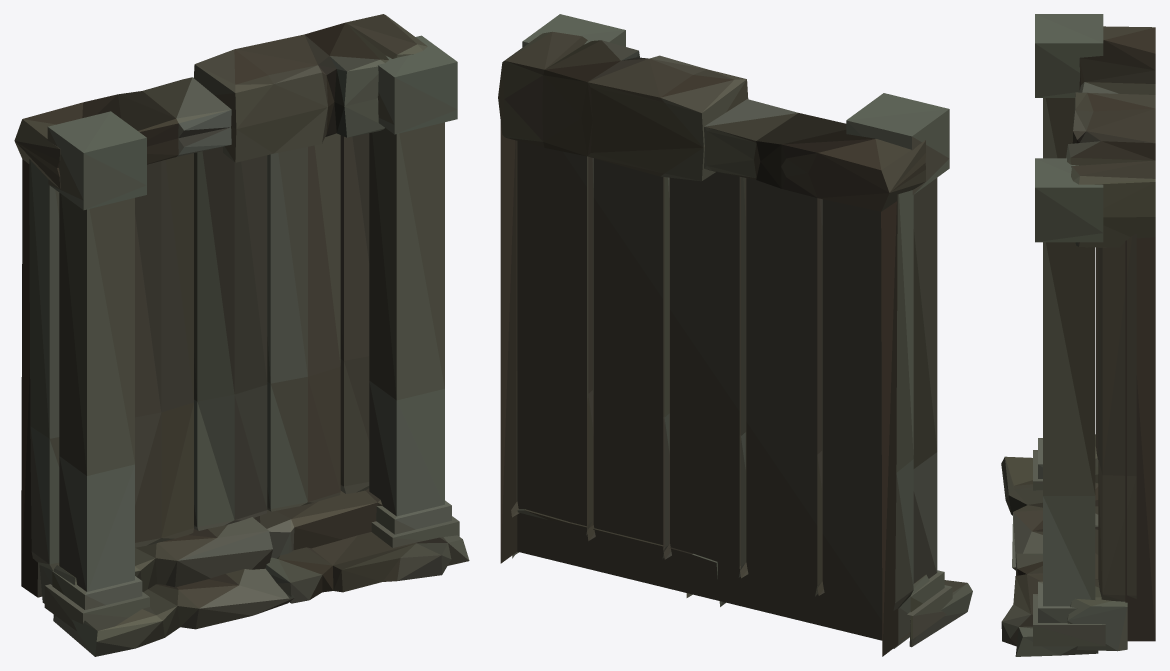
File: wall_A_5m_1.fbx
3 views of the same model, side by side, from view 1: azimuth 30°, elevation 25°; view 2: azimuth 150°, elevation 25°; view 3: azimuth 270°, elevation 25° (orthographic). The views are drawn at different scales.
Parts seen in each view (by area): view 1: wall_A_5m_1; view 2: wall_A_5m_1; view 3: wall_A_5m_1.
Boxes of the visible parts, bbox=[...] form: wall_A_5m_1: bbox=[14, 14, 469, 656]; wall_A_5m_1: bbox=[498, 14, 972, 656]; wall_A_5m_1: bbox=[1001, 14, 1155, 656].
Bounding box in the file's own units: 5.21 × 6.5 × 1.92.
